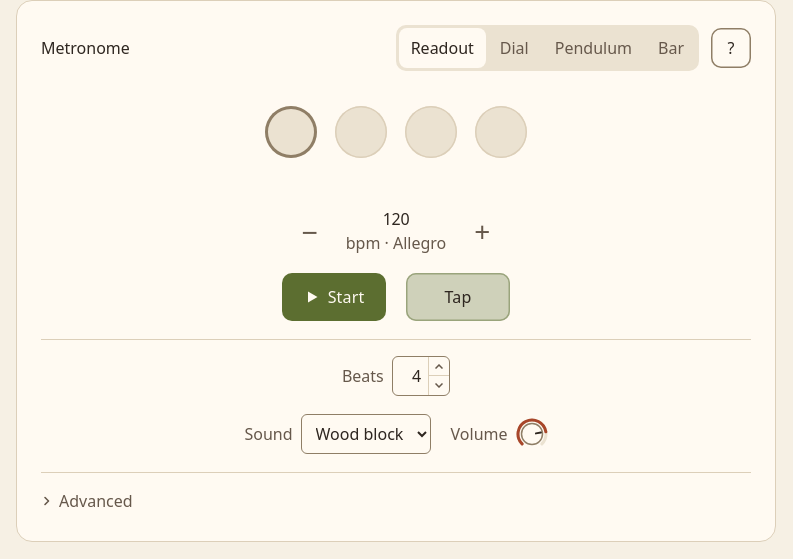
Test: MetronomePage › a drag up on the big tempo speeds it up
Press the mouse on the slider named "Tempo" at (396,231), box x1=346 y1=207 x2=446 y2=255
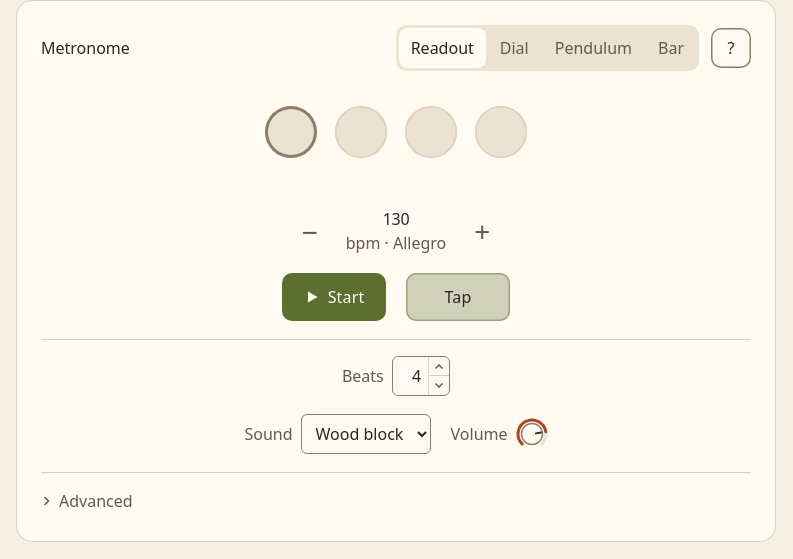
Check: the slider named "Tempo" shows "130", box x1=346 y1=207 x2=446 y2=255
